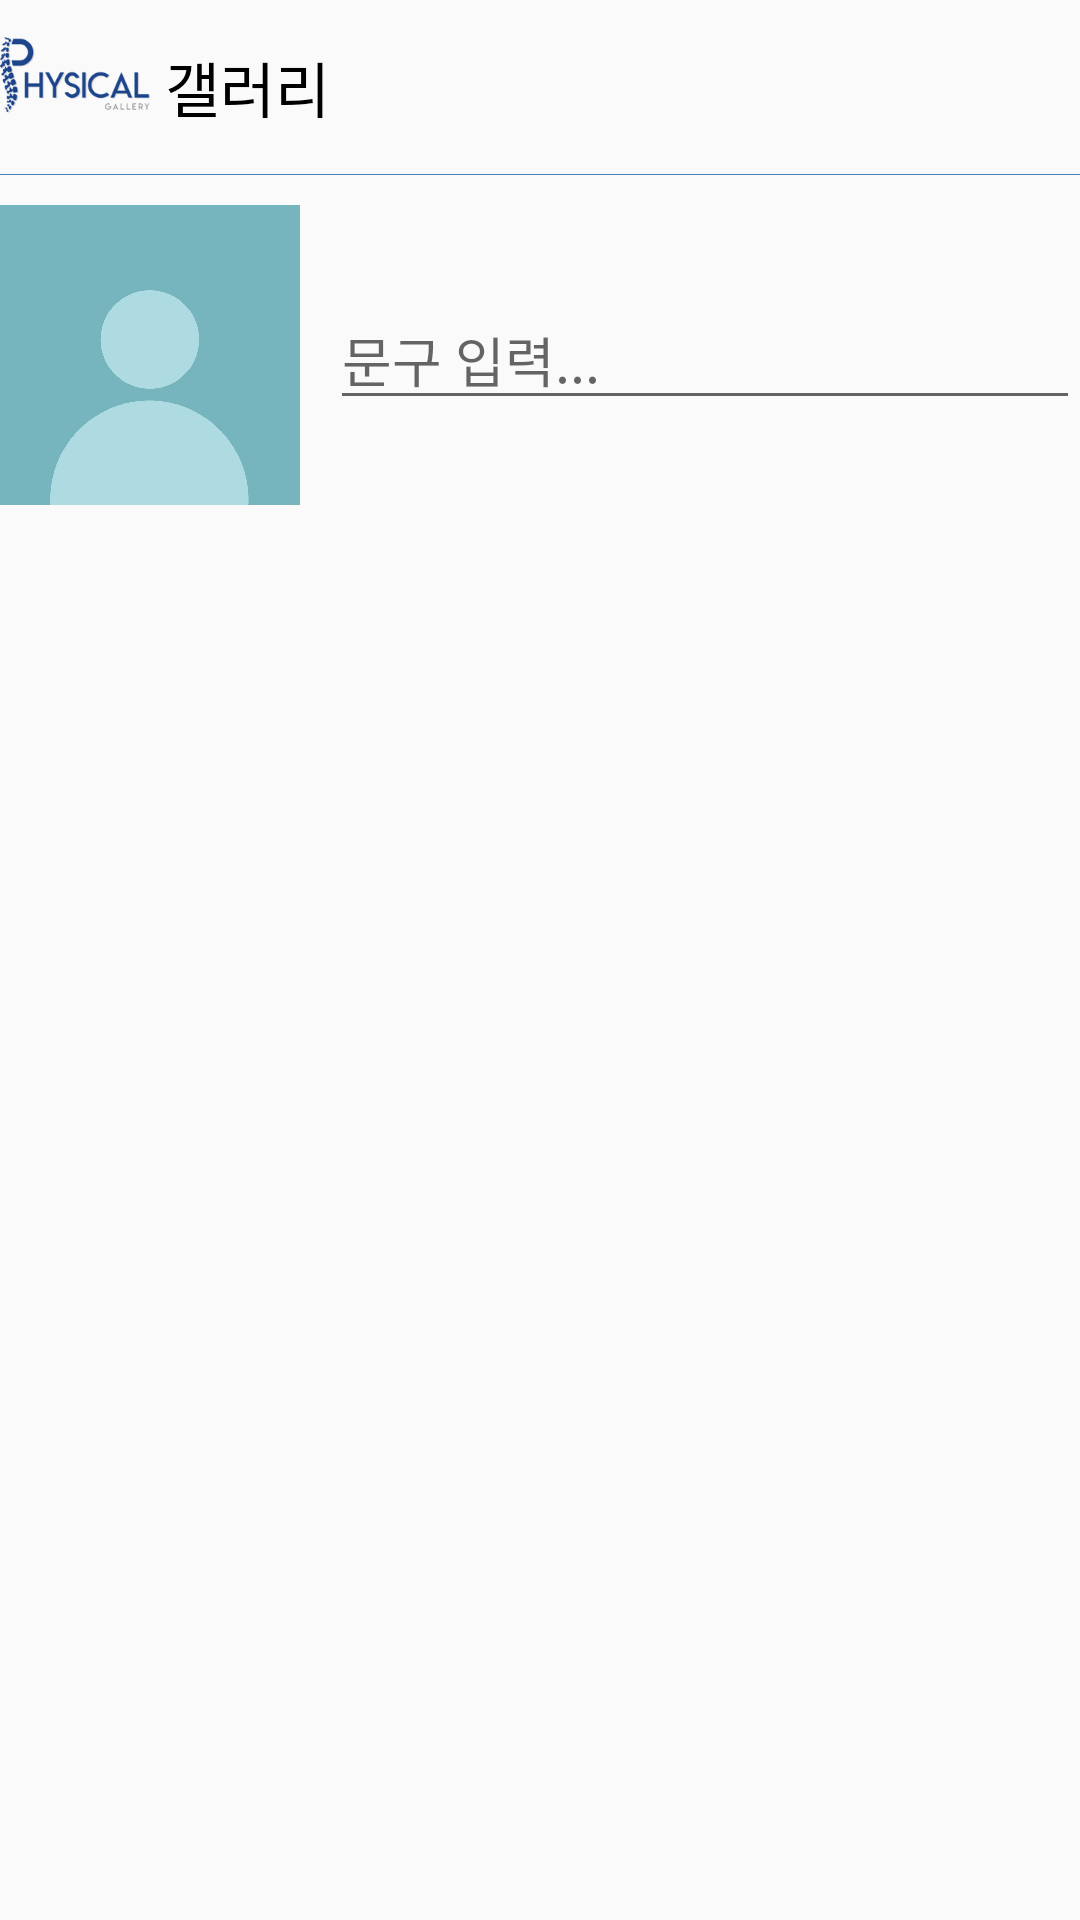

Named icons in this screenshot (1080px x 1920px) and their bounding boxes, (x1, y1, x2, y2):
profile: (0, 205, 300, 505)
